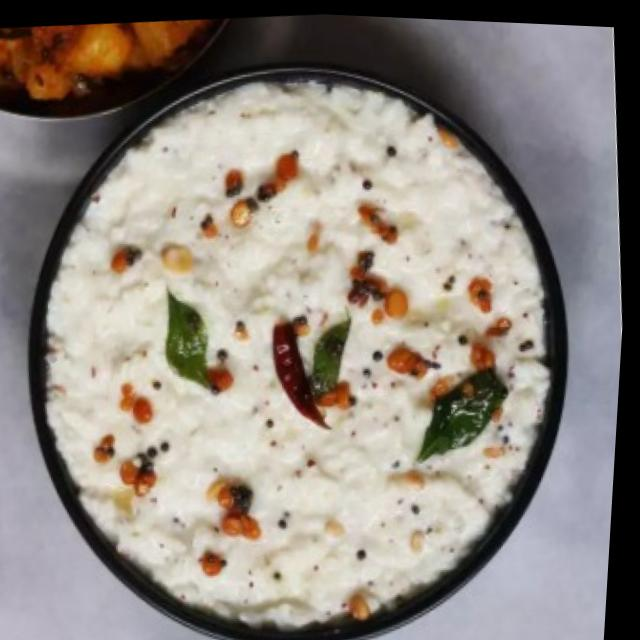CURD RICE: (41, 76, 549, 631)
